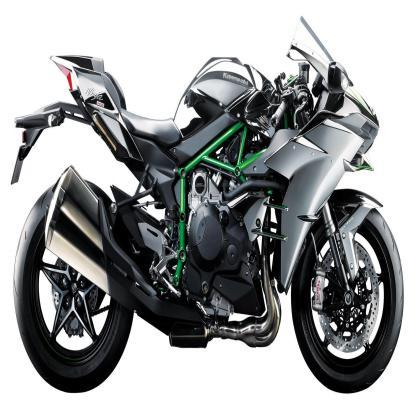Motorcycle: (9, 27, 410, 396)
